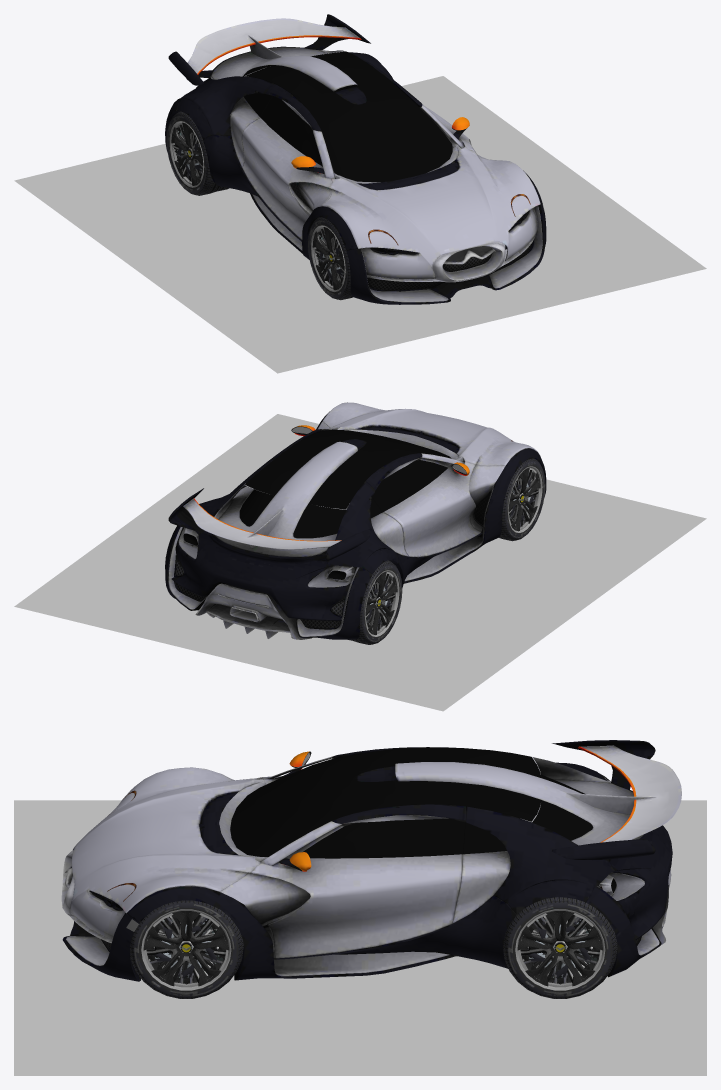
File: Car12.fbx
The picture shows the model from 3 angles, top to bottom: view 1: azimuth 30°, elevation 25°; view 2: azimuth 150°, elevation 25°; view 3: azimuth 270°, elevation 25°; orthographic projection. The views are drawn at different scales.
Parts seen in each view (by area): view 1: Shadow, Body, Windows, RR, FR, Lights; view 2: Shadow, Body, Windows, RR, FR, Lights; view 3: Body, Shadow, Windows, RL, FL.
Boxes of the visible parts, x1,y1,x2,y2 form: Shadow: [14, 76, 706, 373]; Body: [165, 14, 546, 304]; Windows: [243, 51, 526, 252]; RR: [166, 111, 229, 195]; FR: [308, 217, 352, 300]; Lights: [291, 84, 533, 290]; Shadow: [14, 414, 706, 711]; Body: [165, 402, 546, 639]; Windows: [183, 429, 451, 579]; RR: [348, 560, 402, 644]; FR: [499, 458, 545, 541]; Lights: [175, 494, 489, 628]; Body: [61, 740, 681, 981]; Shadow: [14, 800, 706, 1075]; Windows: [107, 747, 616, 908]; RL: [503, 897, 617, 998]; FL: [130, 900, 243, 998].
Size of the model in its own units: 411 by 121 by 437.
